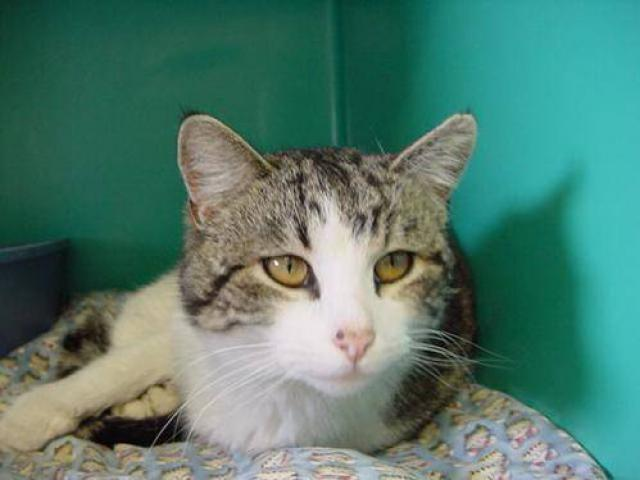cat: (29, 110, 506, 468)
